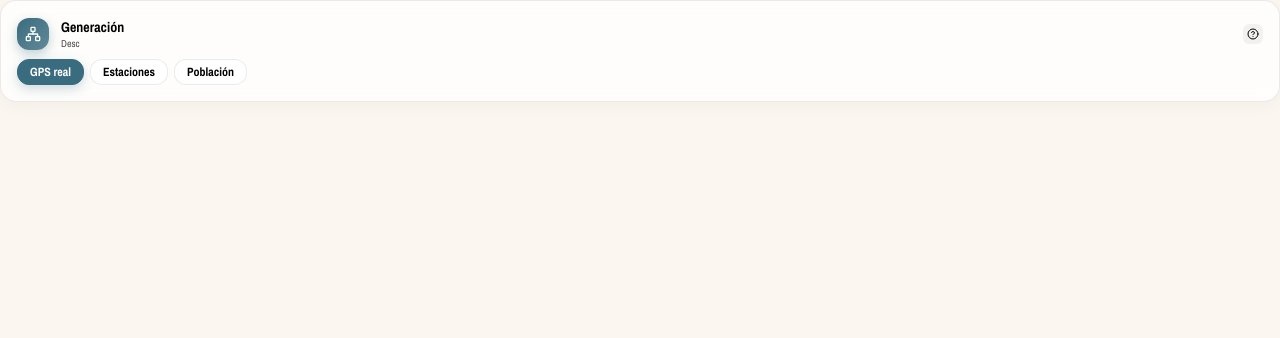
Scenario: FilterCard — per-option methodology accordion › shows active option text expanded when help is open
This screenshot has width=1280, height=338.
Click the button named "mostrar información": coordinates (1253, 34) [1243,24,1263,44]
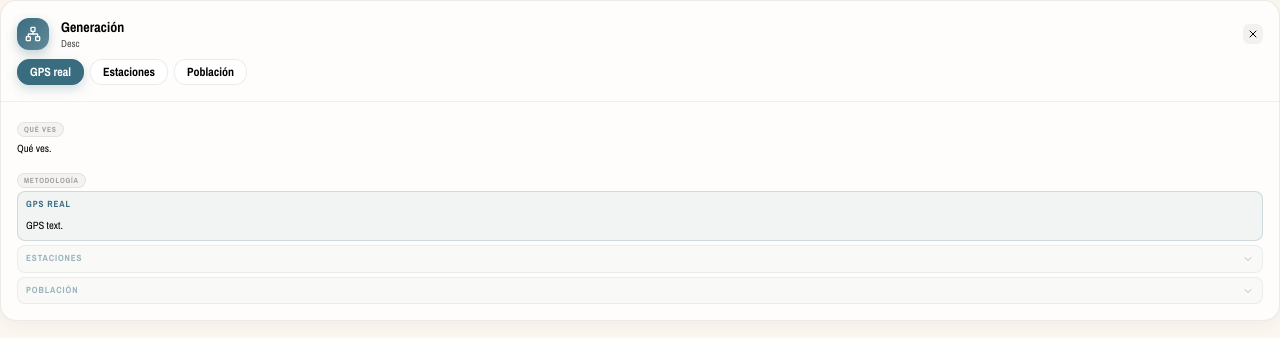
Result: the text "GPS text." is shown at [26,218,63,232]
